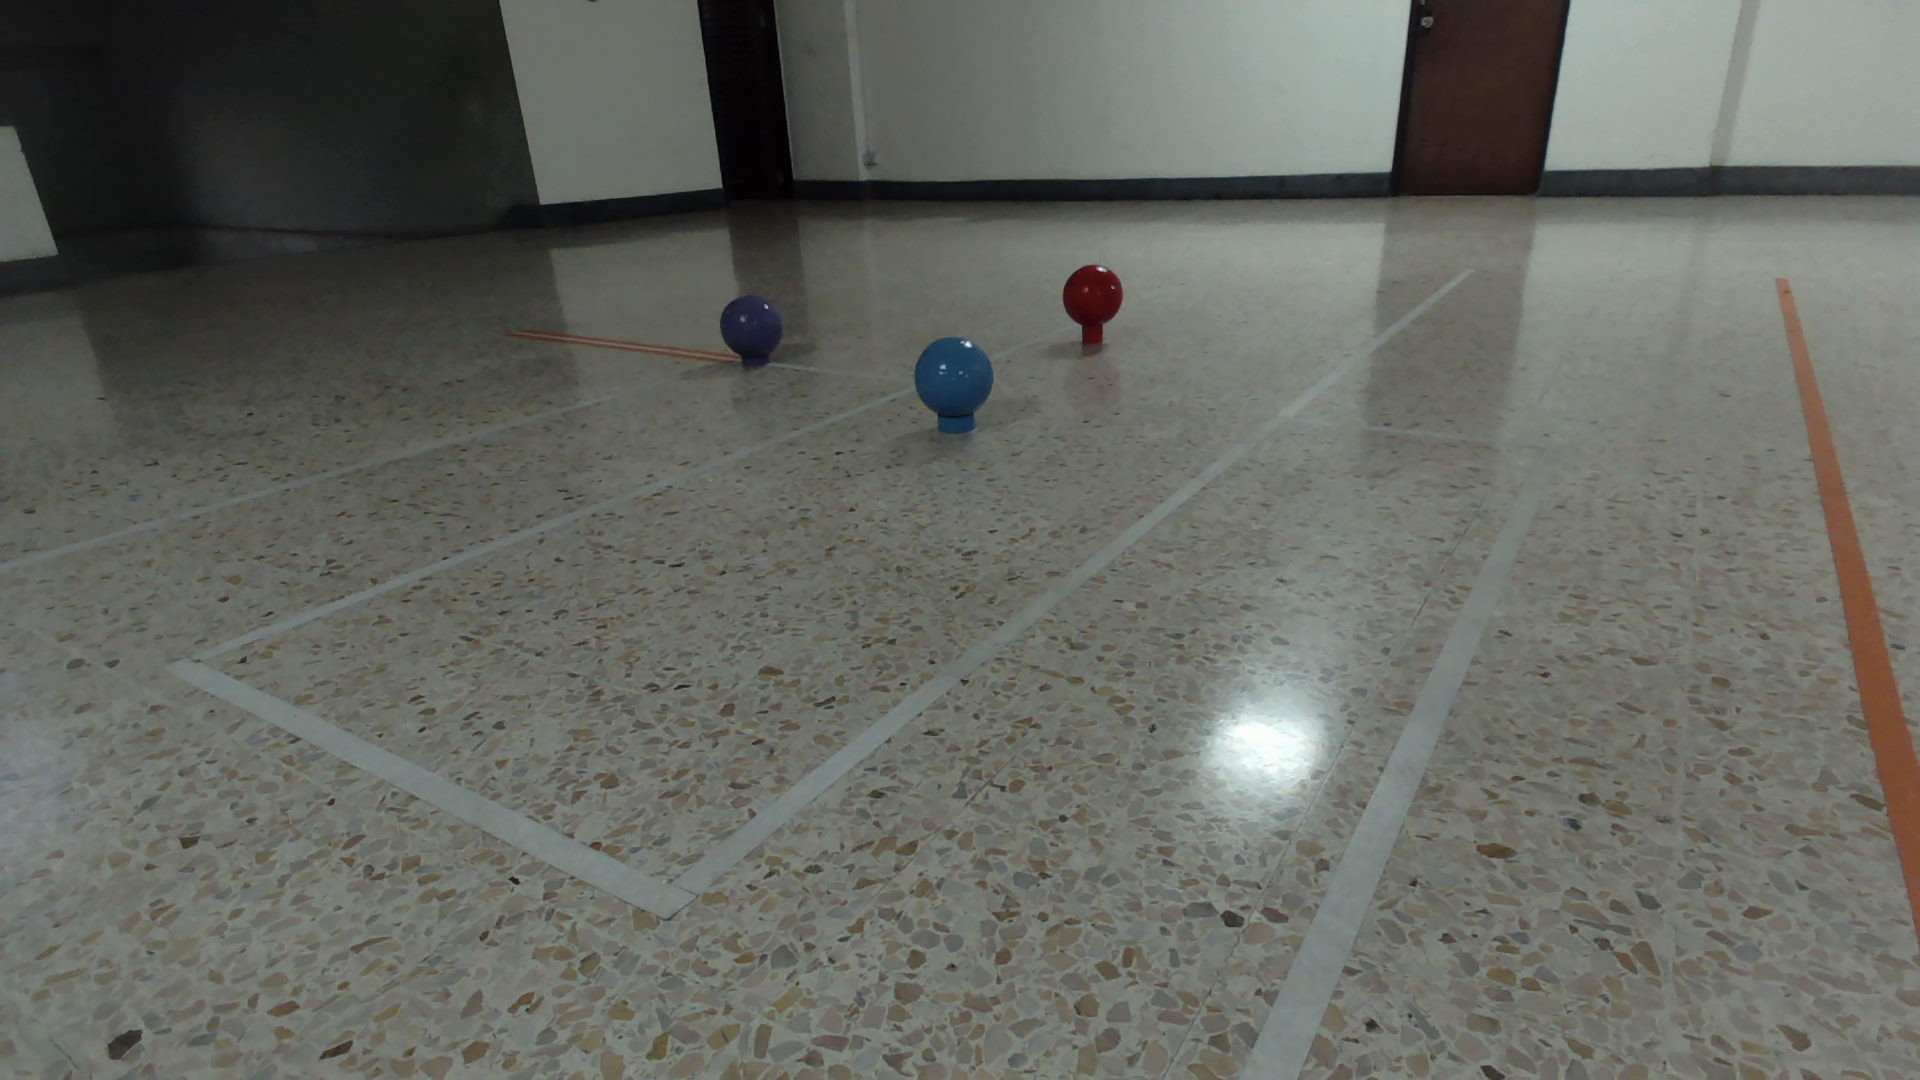Blue ball: (913, 334, 996, 418)
Purple ball: (719, 293, 785, 360)
Red ball: (1062, 262, 1125, 328)
